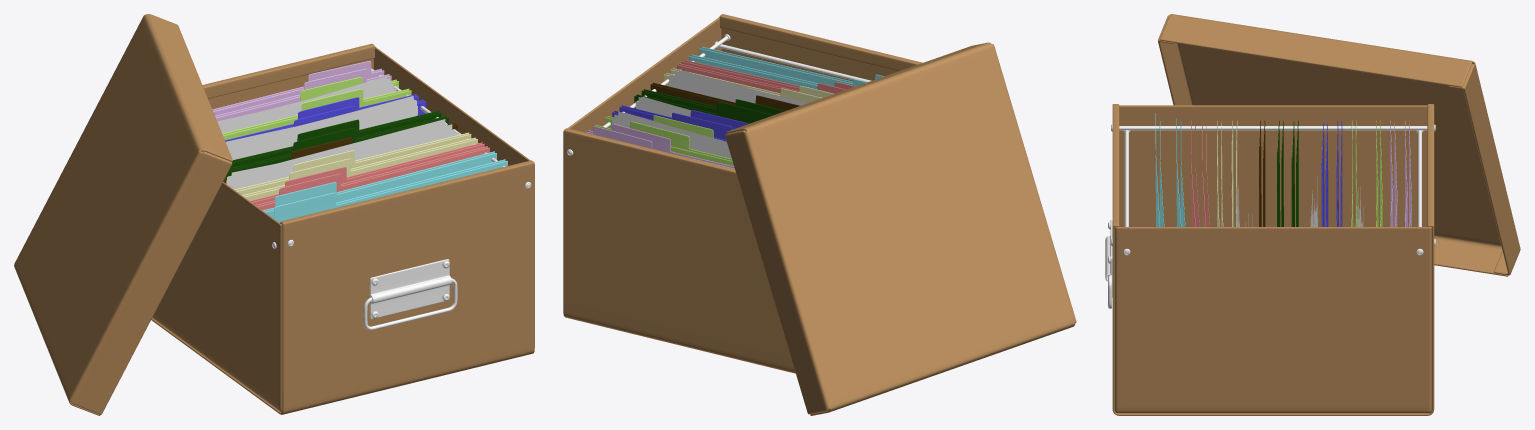
Rendered from 文件箱.glb.
3 renders of one model, left to right at view 1: azimuth 30°, elevation 25°; view 2: azimuth 150°, elevation 25°; view 3: azimuth 270°, elevation 25°, orthographic. The views are drawn at different scales.
Visible parts, largest first — view 1: 3d66-Editable_Poly-22575668-001; view 2: 3d66-Editable_Poly-22575668-001; view 3: 3d66-Editable_Poly-22575668-001.
Part boxes in pixels (x1=…): 3d66-Editable_Poly-22575668-001: x1=14, y1=14, x2=534, y2=415; 3d66-Editable_Poly-22575668-001: x1=563, y1=14, x2=1076, y2=415; 3d66-Editable_Poly-22575668-001: x1=1105, y1=14, x2=1520, y2=415.
Size of the model in its own units: 0.5237 by 0.3119 by 0.458.
